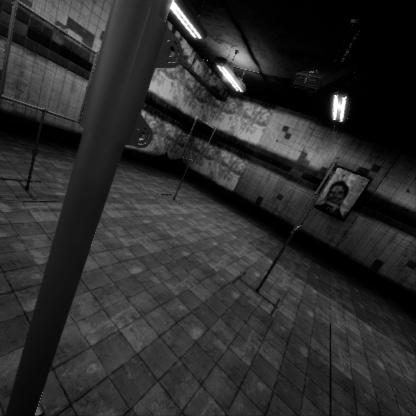gate: (293, 182, 342, 260), (180, 251, 217, 300)
